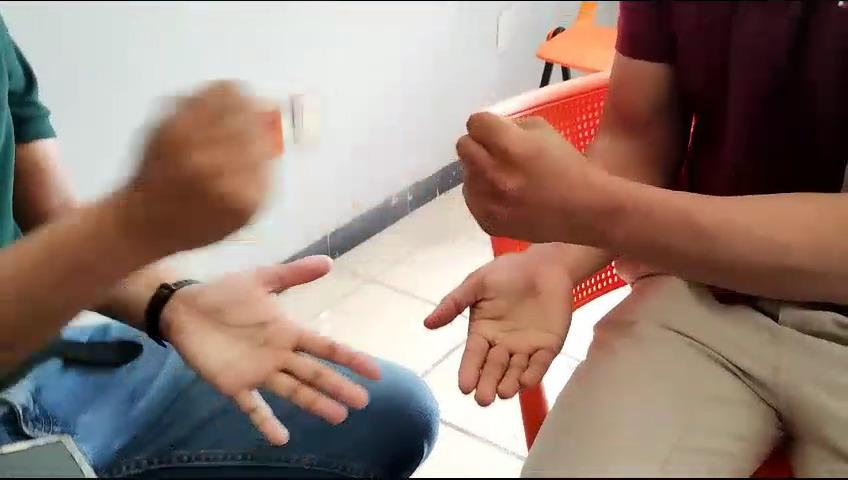Paper: (151, 249, 377, 450), (421, 253, 595, 417)
Stone: (123, 65, 295, 252), (440, 91, 595, 257)
